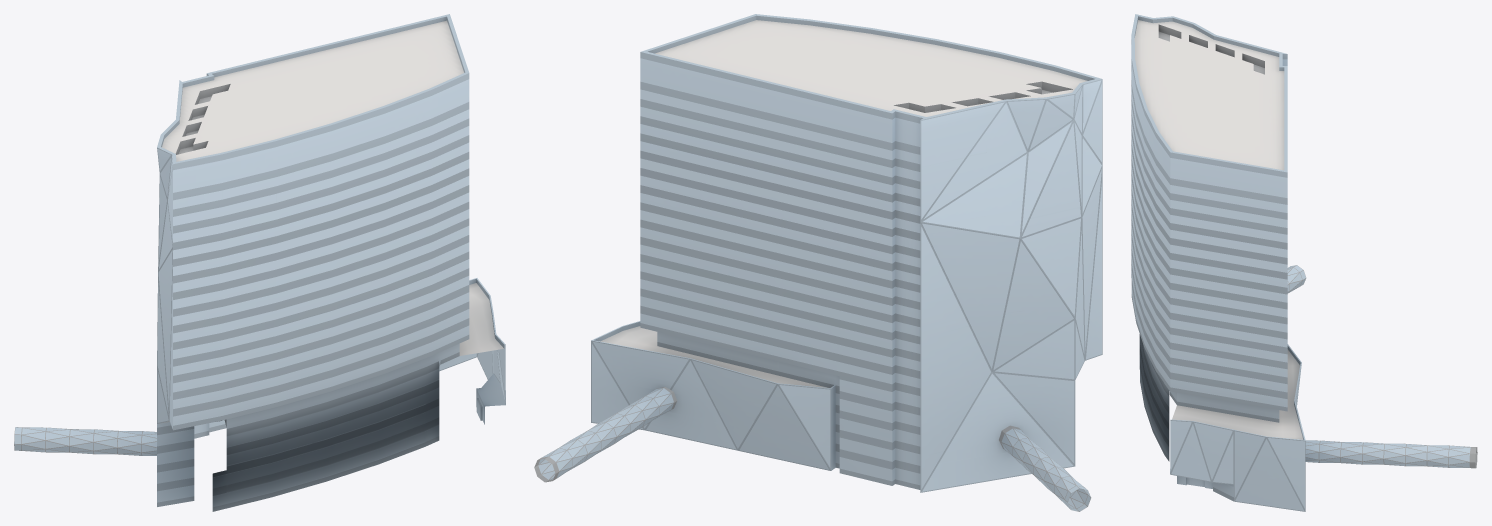
The picture shows the model from 3 angles, left to right: view 1: azimuth 30°, elevation 25°; view 2: azimuth 150°, elevation 25°; view 3: azimuth 270°, elevation 25°; orthographic projection. The views are drawn at different scales.
Visible parts, largest first — view 1: 70030076201844685; view 2: 70030076201844685; view 3: 70030076201844685.
Boxes of the visible parts, box(x1,y1,x2,y2) form: 70030076201844685: box(14, 14, 505, 511); 70030076201844685: box(534, 14, 1102, 511); 70030076201844685: box(1131, 14, 1477, 511).
Bounding box in the file's own units: 119 × 86.5 × 83.98.
Materials: 1 (1 with a texture image).
